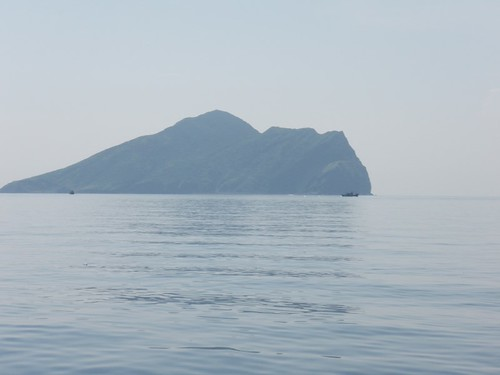turtleIsland: (2, 110, 372, 197)
